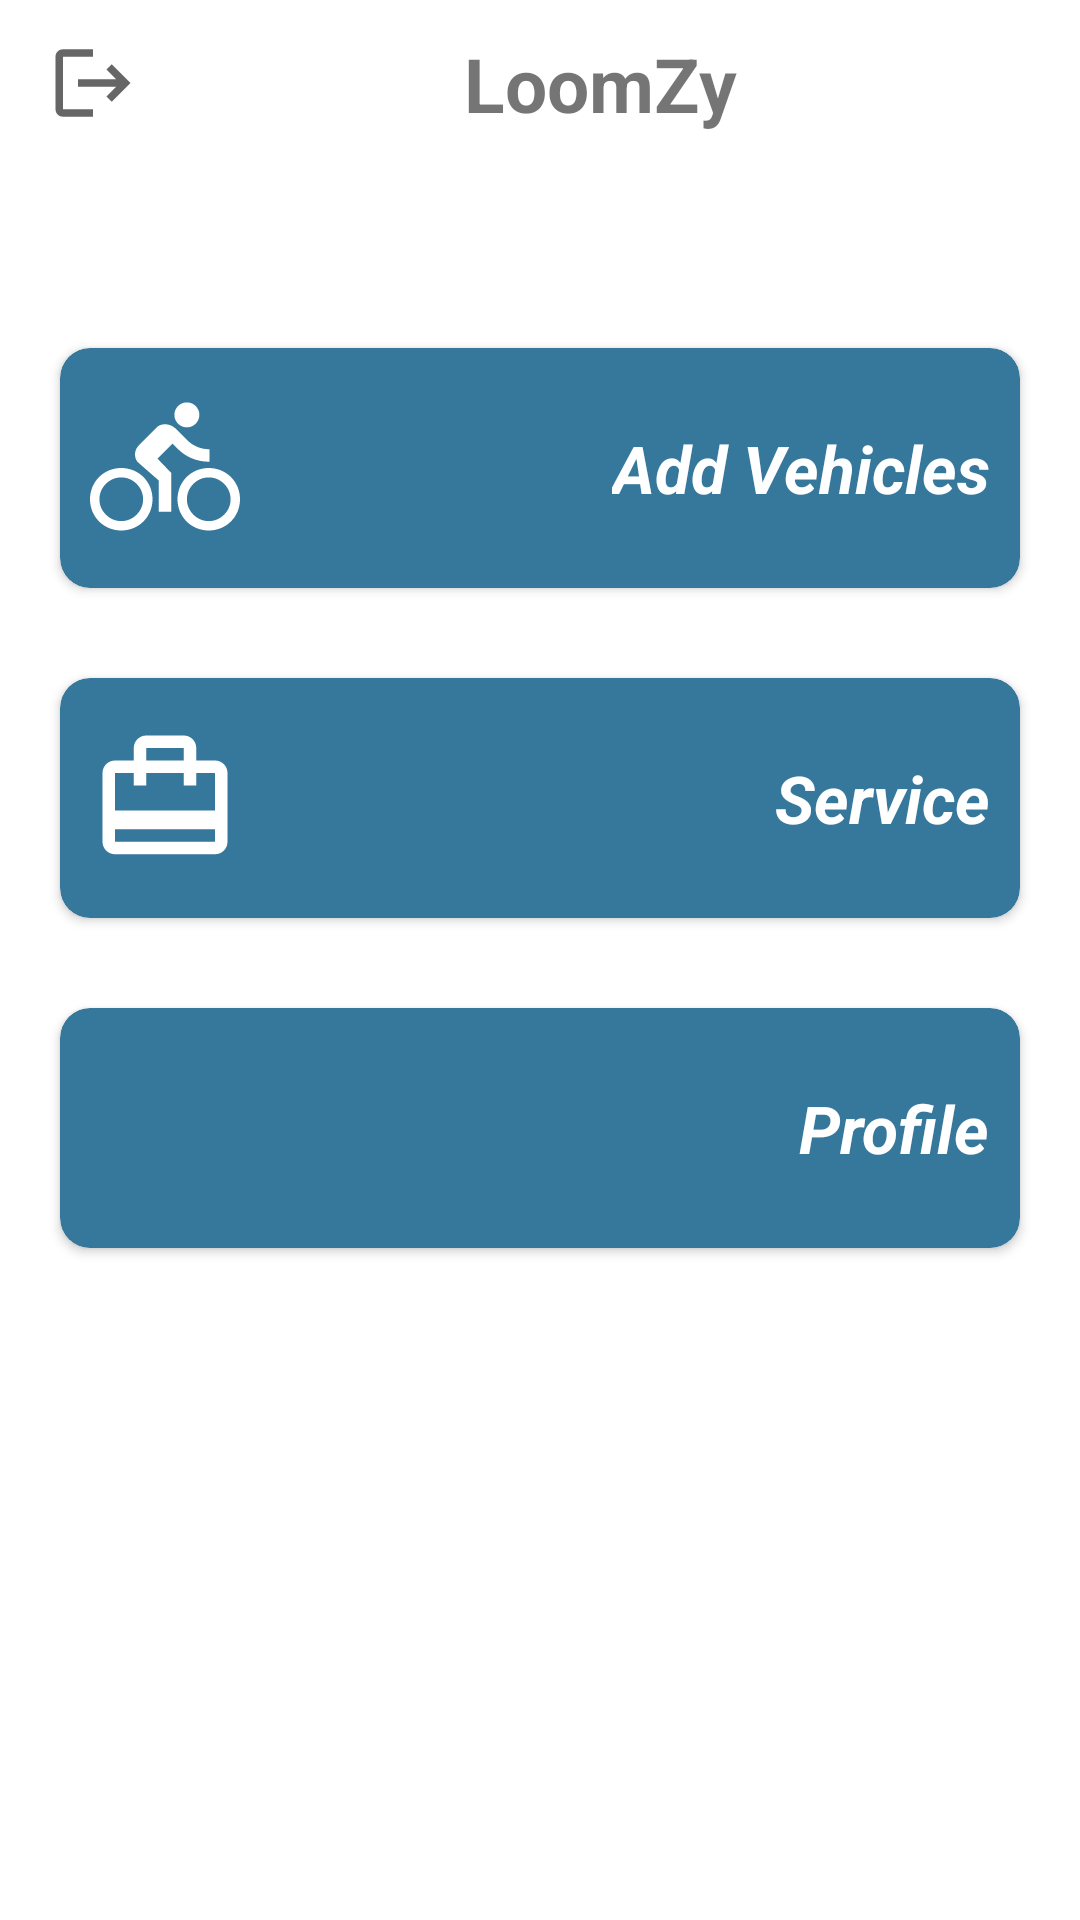

Where to tap for icons on this 1080x1920 app screen, as [x,y]:
card travel: [165,795]
directions bike: [165,466]
